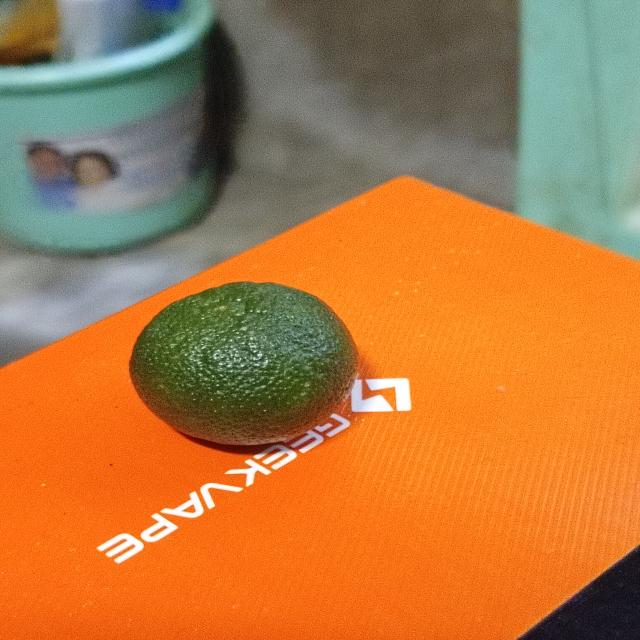heathy: (120, 276, 362, 450)
